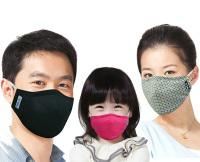OK: (9, 69, 76, 136), (139, 65, 188, 114), (90, 102, 128, 139)
